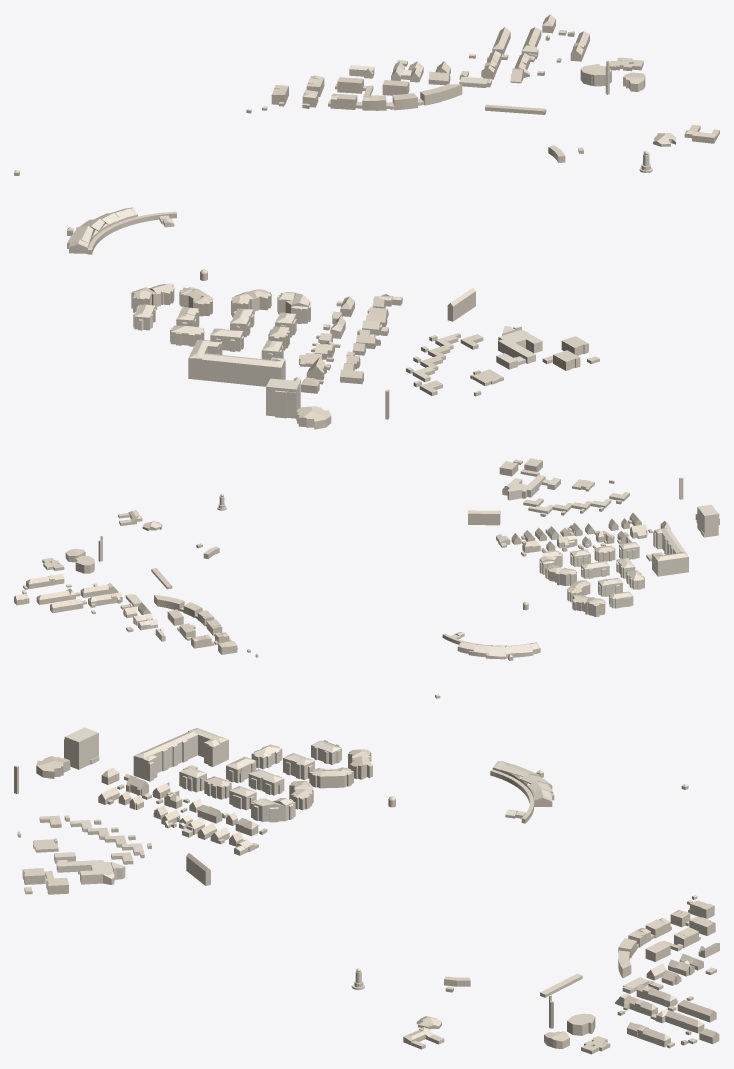
3 views of the same model, one above another, from view 1: azimuth 30°, elevation 25°; view 2: azimuth 150°, elevation 25°; view 3: azimuth 270°, elevation 25° (orthographic). The views are drawn at different scales.
Size of the model in its own units: 643 by 36.51 by 620.
